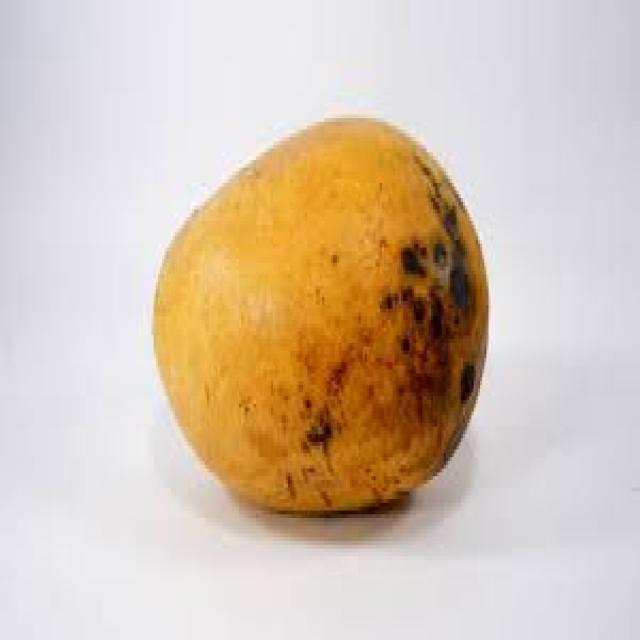Mango: (153, 117, 488, 522)
